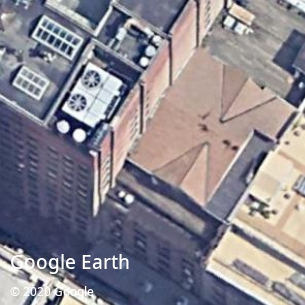Vent: (83, 69, 101, 87), (69, 93, 87, 111)
